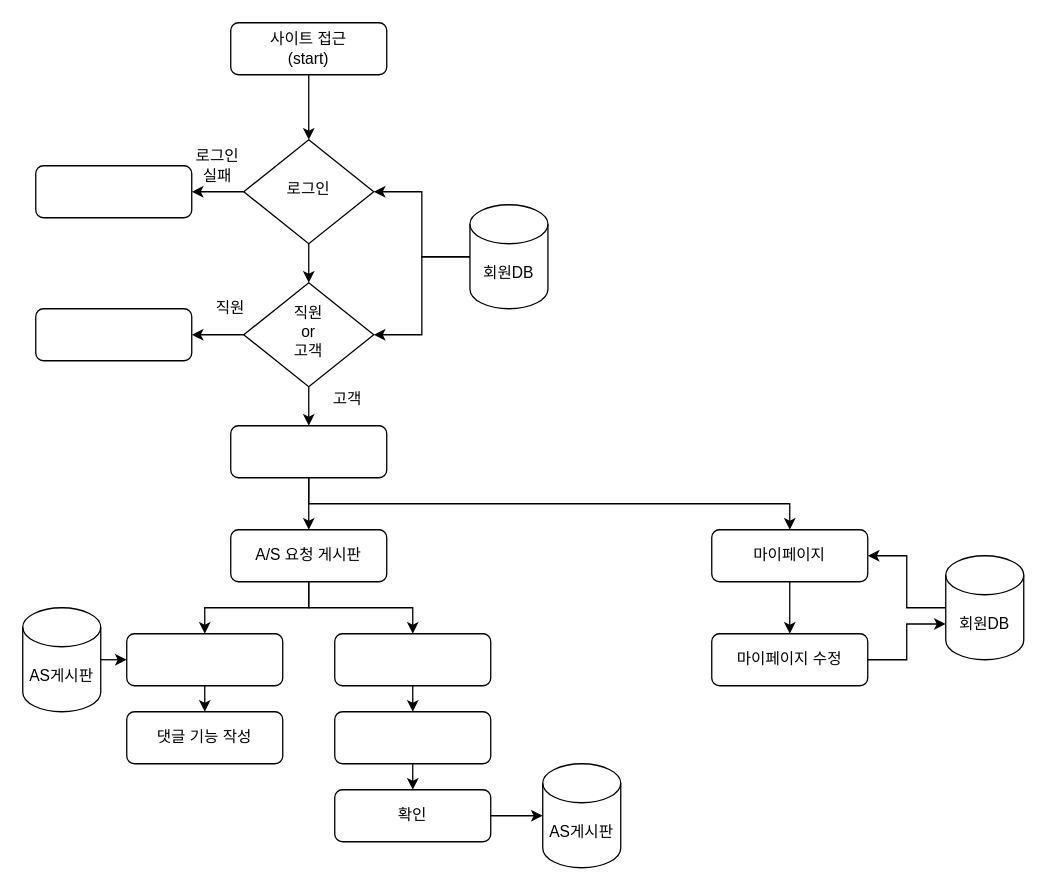
The diagram is 1047 pixels wide and 890 high, and some of its shapes have lost their labels. The shapes that lost their labels are listed below. From the top down, each one's box as (x1, y1, x2, y2) in pixels, then its label:
(34, 164, 192, 218): 로그인 실패 알림
(34, 307, 192, 361): 직원 페이지 view
(229, 424, 387, 478): 고객 페이지
(125, 632, 283, 686): 게시판 내용 확인
(333, 632, 491, 686): 게시판 글 등록
(333, 710, 491, 764): 게시판 내용 입력
